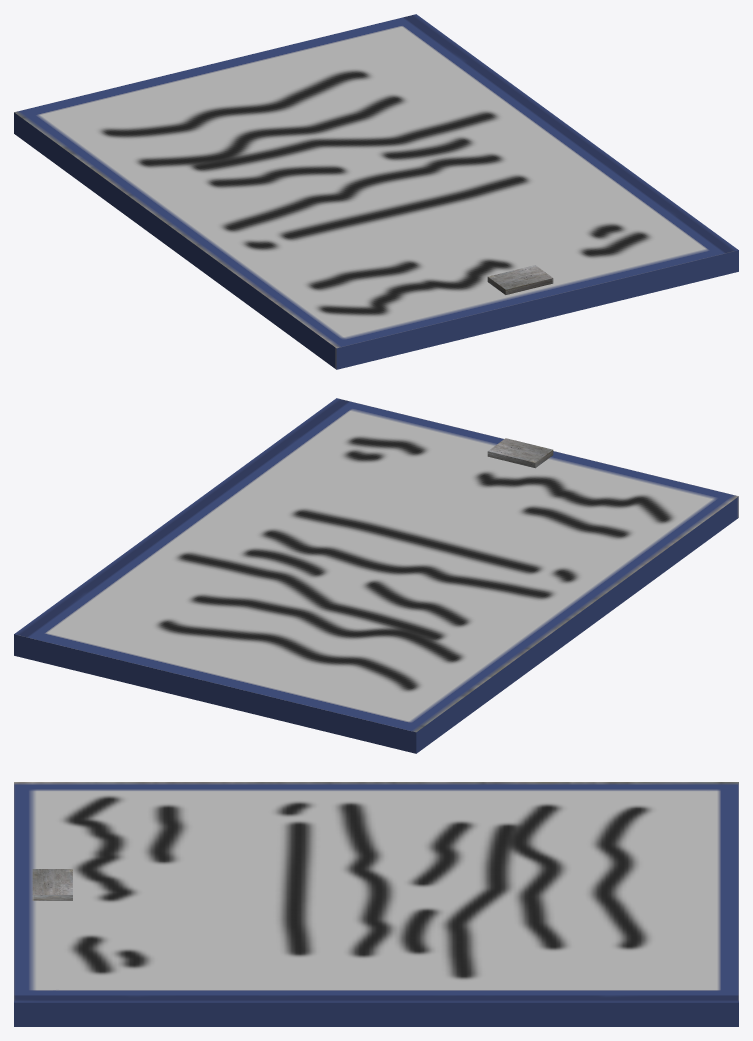
File: clipboard.fbx
3 renders of one model, top to bottom at view 1: azimuth 30°, elevation 25°; view 2: azimuth 150°, elevation 25°; view 3: azimuth 270°, elevation 25°, orthographic. The views are drawn at different scales.
Parts seen in each view (by area): view 1: clipboard; view 2: clipboard; view 3: clipboard.
Part boxes in pixels (left/top/right/bottom): clipboard: left=14, top=14, right=738, bottom=369; clipboard: left=14, top=398, right=738, bottom=753; clipboard: left=14, top=782, right=738, bottom=1026.
Bounding box in the file's own units: 45.72 × 3.34 × 63.5.
Materials: 1 (1 with a texture image).
